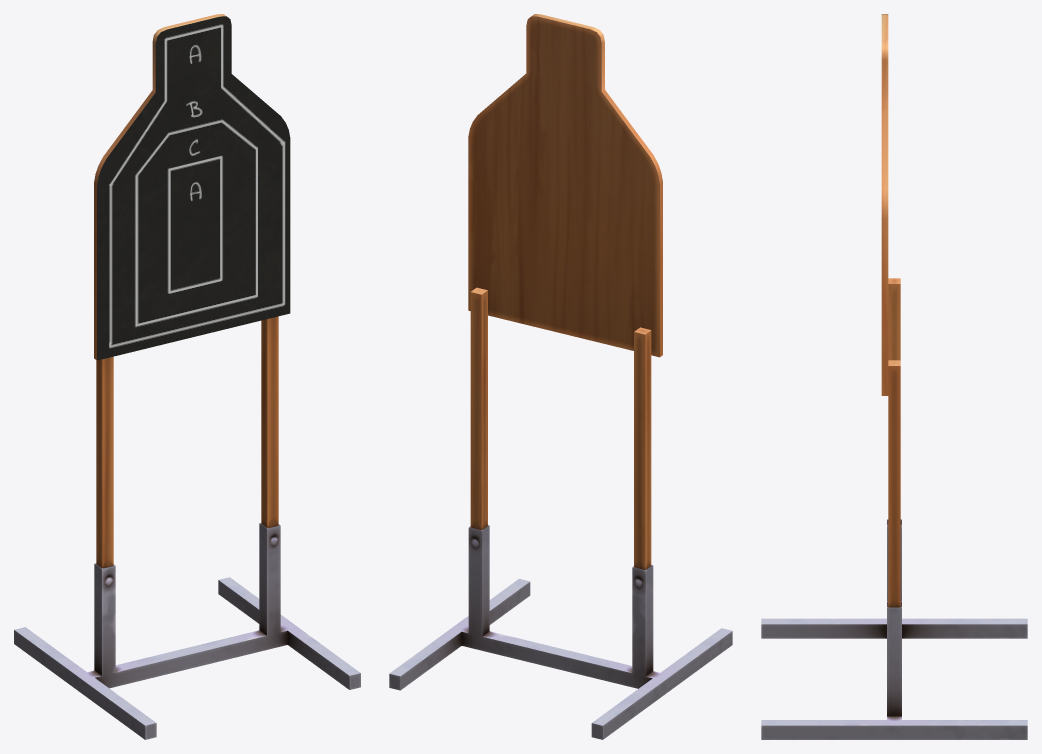
Rendered from Target01_1.FBX.
3 renders of one model, left to right at view 1: azimuth 30°, elevation 25°; view 2: azimuth 150°, elevation 25°; view 3: azimuth 270°, elevation 25°, orthographic. The views are drawn at different scales.
Parts seen in each view (by area): view 1: Target01_1; view 2: Target01_1; view 3: Target01_1.
Part boxes in pixels (<box>): Target01_1: <box>14,14,360,739</box>; Target01_1: <box>389,14,732,739</box>; Target01_1: <box>761,14,1027,739</box>.
Size of what is drawn, in the model's own units: 0.6842 by 1.96 by 0.72.
